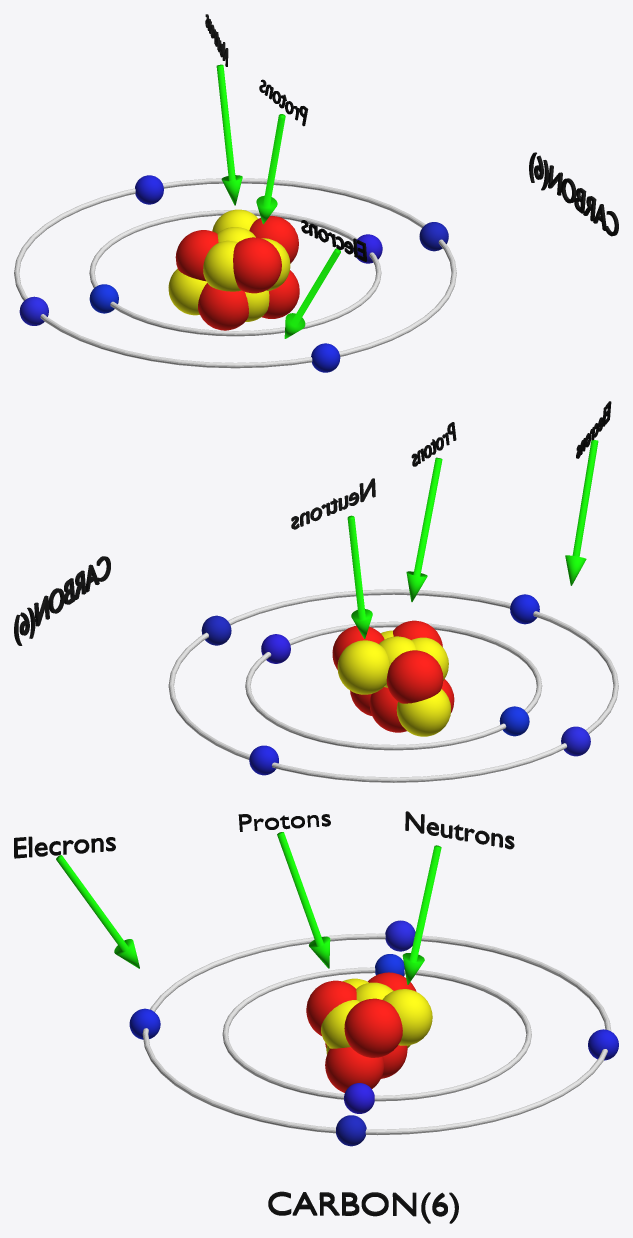
The model's file is Carbon Atomic Model.gltf.
The picture shows the model from 3 angles, top to bottom: view 1: azimuth 30°, elevation 25°; view 2: azimuth 150°, elevation 25°; view 3: azimuth 270°, elevation 25°; orthographic projection. The views are drawn at different scales.
Parts seen in each view (by area): view 1: Sphere.008, Torus.001, Torus, Text.003, Cylinder.001, Cylinder.000, Cylinder.003, Text, Sphere.004, Sphere.005, Sphere, Sphere.003 (+3 smaller); view 2: Sphere.008, Torus.001, Torus, Text.003, Cylinder.003, Cylinder.000, Cylinder.001, Text.002, Sphere, Sphere.002, Sphere.003, Sphere.005 (+4 smaller); view 3: Sphere.008, Torus.001, Torus, Text.003, Cylinder.000, Cylinder.001, Cylinder.003, Text.002, Text, Sphere.001, Sphere.002, Sphere.003 (+3 smaller).
Part boxes in pixels (x1,y1,x2,y2): Sphere.008: (168,209,299,330); Torus.001: (14,178,456,368); Torus: (89,210,381,336); Text.003: (529,152,618,236); Cylinder.001: (216,64,242,205); Cylinder.000: (256,114,285,224); Cylinder.003: (284,248,340,338); Text: (301,220,366,261); Sphere.004: (135,175,163,204); Sphere.005: (311,343,340,372); Sphere: (89,284,118,313); Sphere.003: (19,296,48,325); Sphere.008: (332,620,454,736); Torus.001: (168,589,618,782); Torus: (245,621,542,750); Text.003: (14,556,110,645); Cylinder.003: (565,440,598,585); Cylinder.000: (406,457,442,601); Cylinder.001: (347,515,372,638); Text.002: (291,478,375,529); Sphere: (499,706,529,736); Sphere.002: (201,615,231,645); Sphere.003: (561,726,590,756); Sphere.005: (510,594,539,624); Sphere.008: (306,972,432,1092); Torus.001: (142,933,611,1135); Torus: (222,967,531,1101); Text.003: (268,1191,458,1223); Cylinder.000: (277,832,330,968); Cylinder.001: (402,845,441,984); Cylinder.003: (56,855,139,968); Text.002: (405,811,514,849); Text: (14,836,115,858); Sphere.001: (344,1083,374,1113); Sphere.002: (336,1115,366,1146); Sphere.003: (385,920,415,951).
Bounding box in the file's own units: 3.46 × 1.57 × 3.18.
